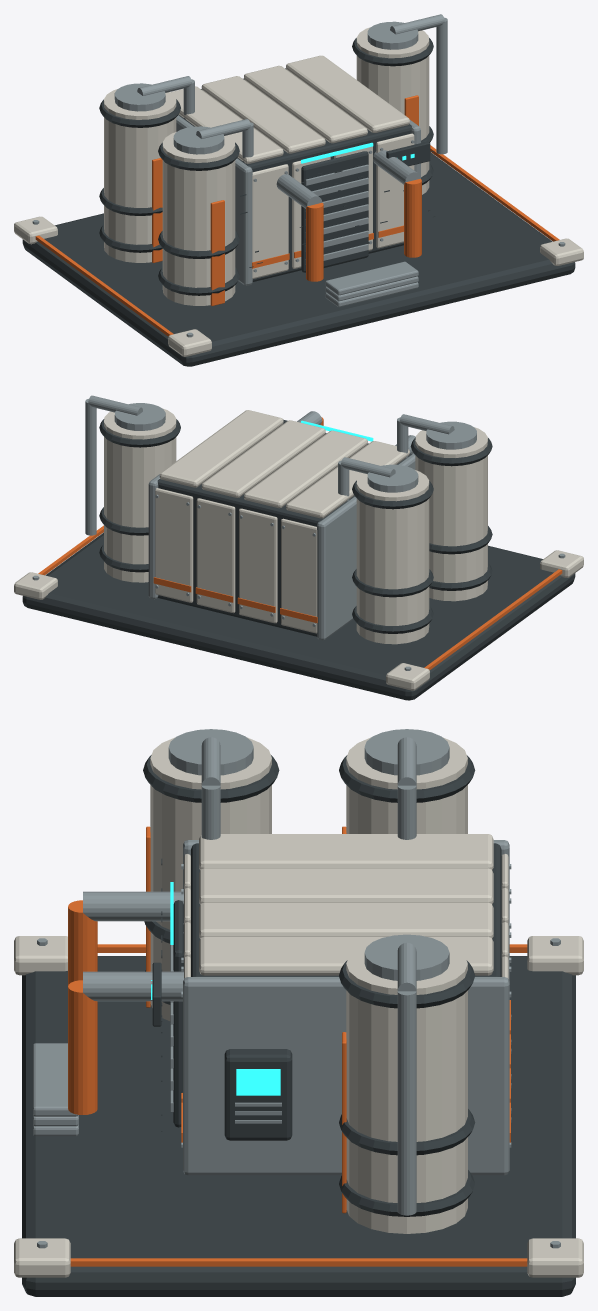
The model's file is SM_WaterPurifier_Body.fbx.
3 renders of one model, top to bottom at view 1: azimuth 30°, elevation 25°; view 2: azimuth 150°, elevation 25°; view 3: azimuth 270°, elevation 25°, orthographic. The views are drawn at different scales.
Visible parts, largest first — view 1: SM_WaterPurifier_Body; view 2: SM_WaterPurifier_Body; view 3: SM_WaterPurifier_Body.
Boxes of the visible parts, x1,y1,x2,y2 form: SM_WaterPurifier_Body: (14, 14, 583, 366); SM_WaterPurifier_Body: (14, 395, 583, 700); SM_WaterPurifier_Body: (14, 729, 583, 1296).
Size of the model in its own units: 572 by 422 by 247.
